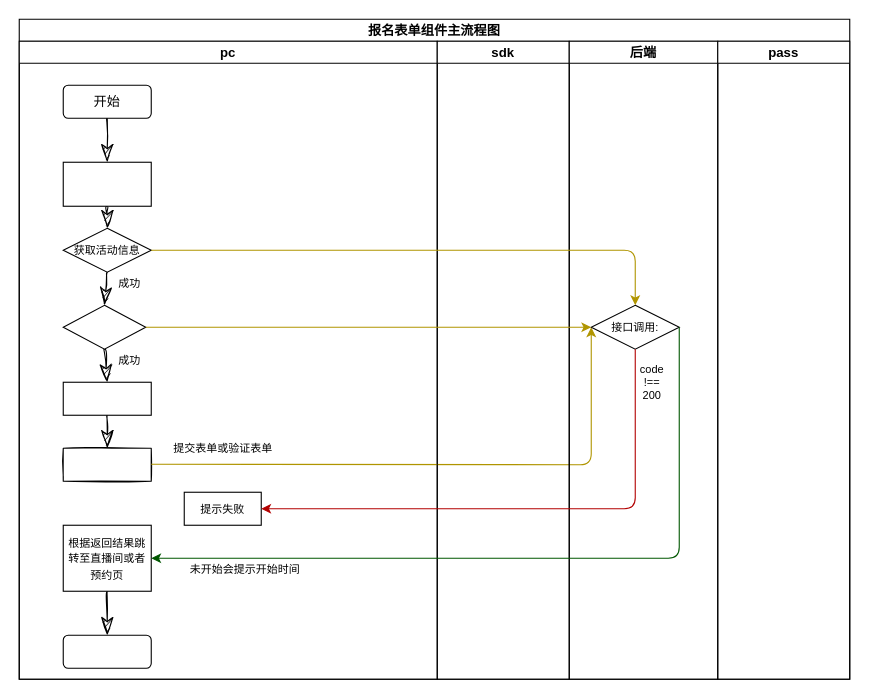
Image size: 869x699. Some labels were removed from this diagram. Each missing label, with the box of its shape:
初始化tab/题目/翻译等: (62, 381, 151, 415)
收集信息: (62, 447, 151, 481)
结束: (62, 634, 151, 668)
获取地址栏参数: (62, 161, 151, 206)
获取题目信息: (62, 304, 146, 349)
